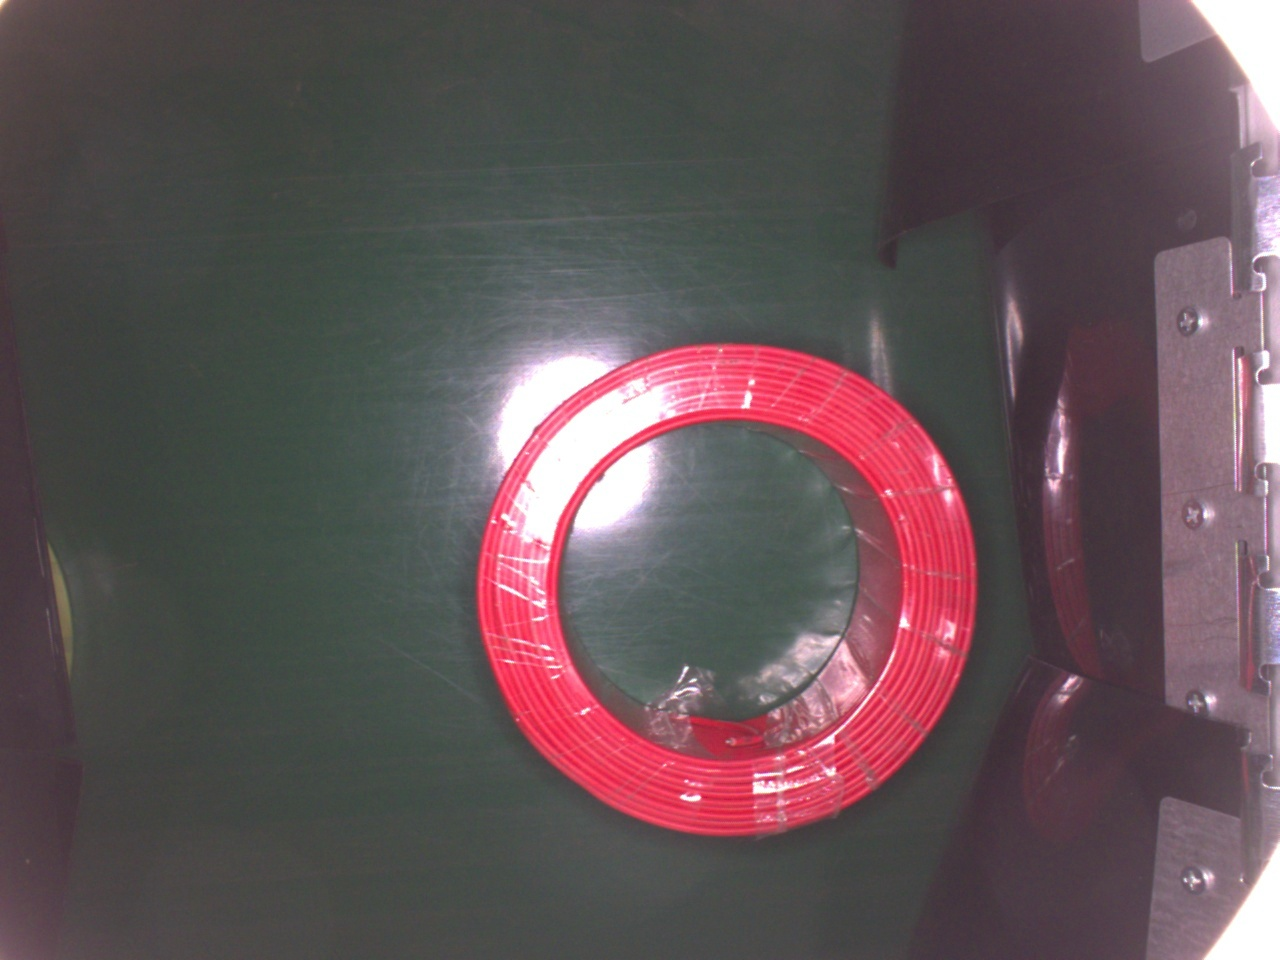red: (475, 334, 974, 843)
